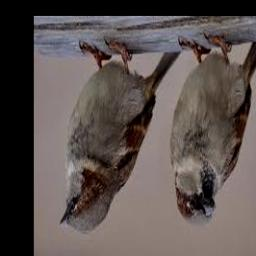Sparrow: (60, 40, 183, 233), (169, 35, 256, 228)
